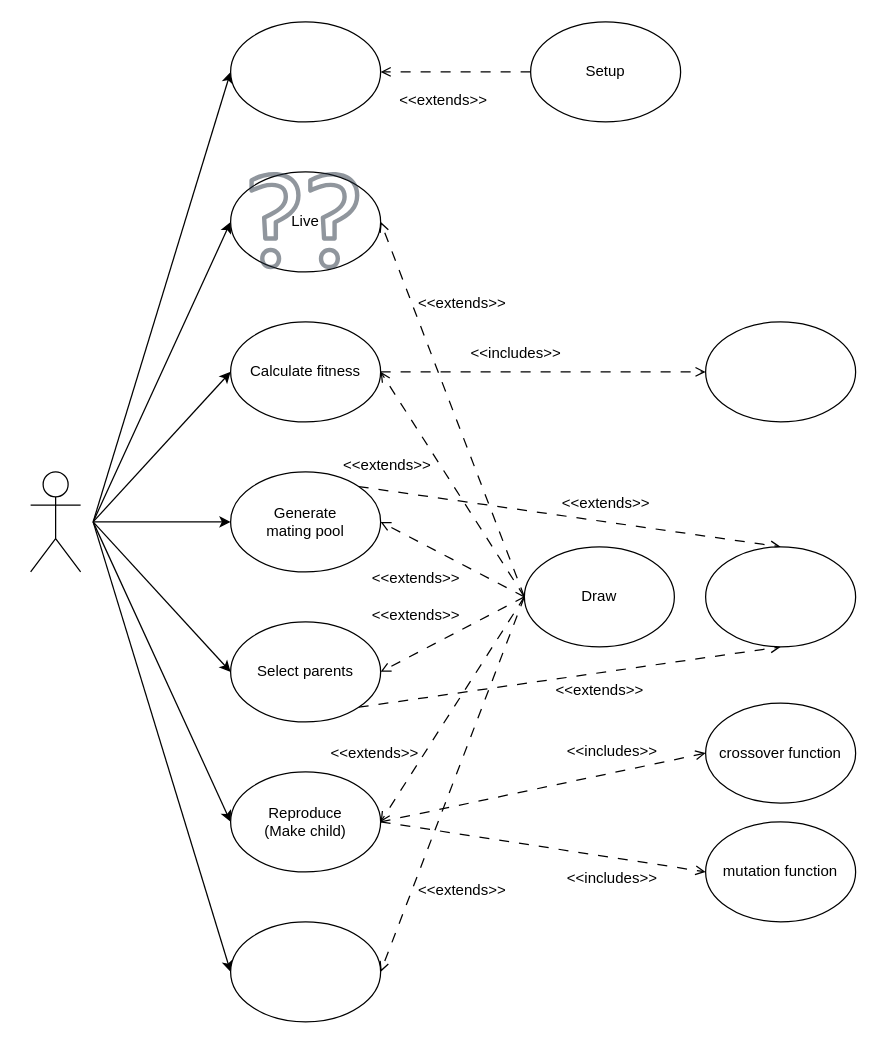
Image size: 878x1044. Some labels were removed from this diagram. The shapes that lost their labels are listed below. From the top down, each one's centre as x and y in pixels, then its label:
At point (305, 71): "Generate population".
At point (780, 371): "Fitness function".
At point (55, 521): "Elements of population".
At point (780, 596): "Selection process".
At point (305, 971): "Replace parents population".
